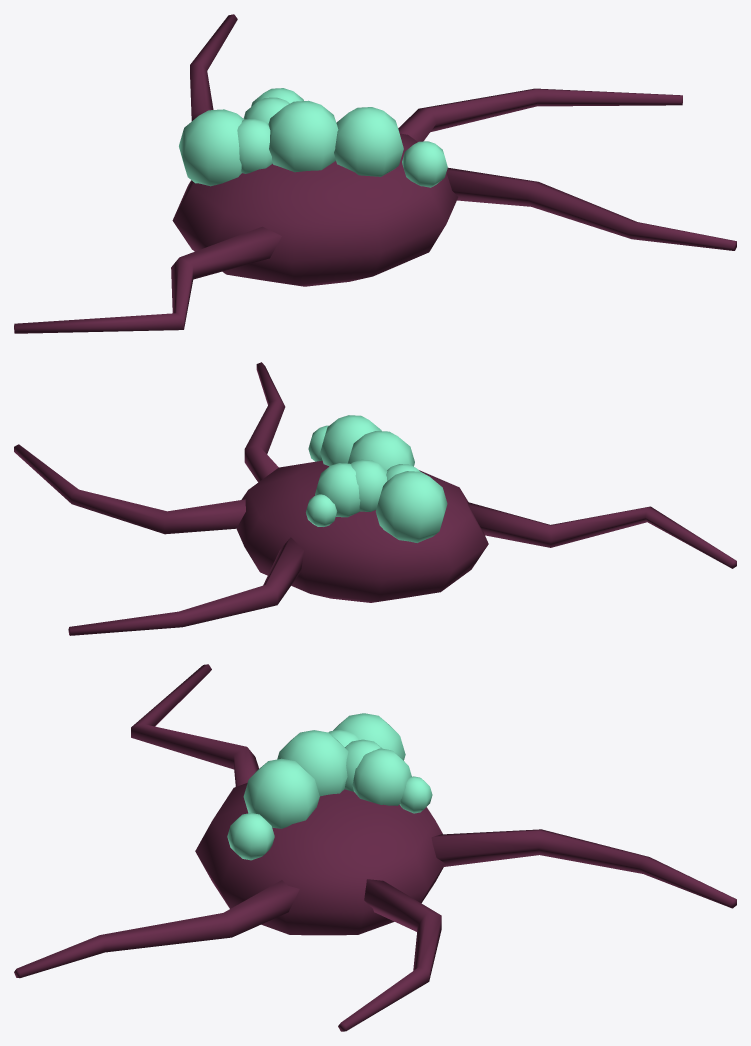
Rendered from SM_Pustules_Green.fbx.
3 renders of one model, top to bottom at view 1: azimuth 30°, elevation 25°; view 2: azimuth 150°, elevation 25°; view 3: azimuth 270°, elevation 25°, orthographic. The views are drawn at different scales.
Parts seen in each view (by area): view 1: SM_Pustules_Green; view 2: SM_Pustules_Green; view 3: SM_Pustules_Green.
Part boxes in pixels (box(x1,y1,x2,y2)): SM_Pustules_Green: box(14, 14, 736, 333); SM_Pustules_Green: box(14, 362, 736, 635); SM_Pustules_Green: box(14, 664, 736, 1031).
Size of the model in its own units: 2.37 by 0.5214 by 2.
